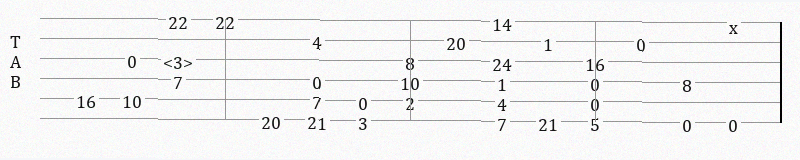0: (127, 52, 141, 68), (312, 72, 326, 88), (358, 92, 372, 108), (590, 92, 604, 108), (590, 72, 604, 88), (636, 32, 650, 48), (682, 112, 696, 128), (728, 112, 742, 128)
1: (497, 72, 511, 88), (543, 32, 557, 48)
10: (122, 92, 146, 108), (400, 72, 424, 88)
14: (492, 12, 516, 28)
16: (76, 92, 100, 108), (585, 52, 609, 68)
2: (405, 92, 419, 108)
20: (261, 112, 285, 128), (446, 32, 470, 48)
21: (307, 112, 331, 128), (538, 112, 562, 128)
22: (168, 12, 192, 28), (215, 12, 239, 28)
24: (492, 52, 516, 68)
3: (358, 112, 372, 128)
4: (312, 32, 326, 48), (497, 92, 511, 108)
5: (590, 112, 604, 129)
7: (173, 72, 187, 89), (312, 92, 326, 109), (497, 112, 511, 129)
8: (405, 52, 419, 68), (682, 72, 696, 88)
harmonic: (163, 52, 197, 68)
x: (729, 14, 742, 27)
